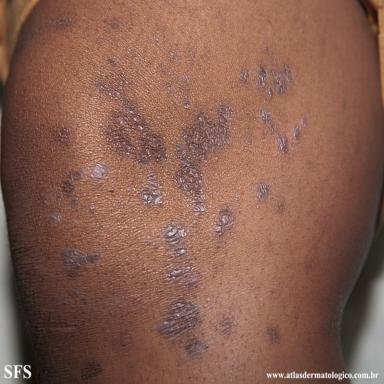lichen: (174, 101, 233, 215), (95, 75, 167, 165), (163, 222, 199, 288), (158, 299, 201, 340), (61, 249, 101, 279), (267, 64, 293, 99), (139, 170, 163, 207), (215, 205, 235, 235), (61, 170, 83, 196), (53, 126, 76, 147), (217, 311, 235, 337), (184, 336, 208, 355), (260, 109, 278, 133), (82, 361, 102, 380), (292, 116, 307, 140), (256, 181, 270, 203), (265, 326, 281, 344), (91, 163, 108, 179), (105, 17, 123, 32), (257, 64, 267, 88), (47, 212, 61, 228), (277, 134, 288, 152), (239, 67, 250, 84), (275, 200, 286, 214), (71, 198, 79, 210), (246, 132, 251, 144)
